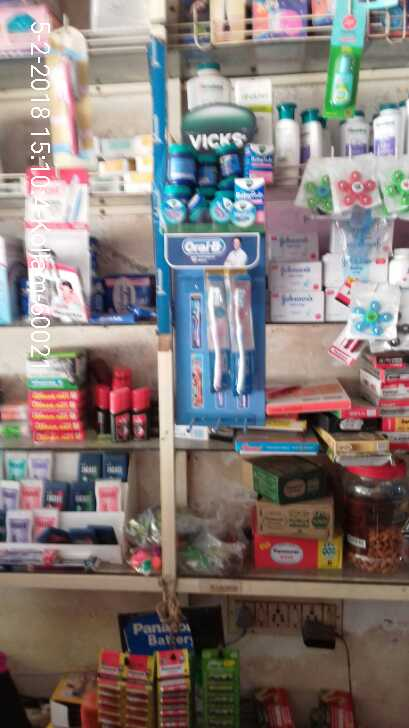pharmacy: (157, 138, 285, 231), (231, 282, 260, 399), (204, 282, 229, 390)
